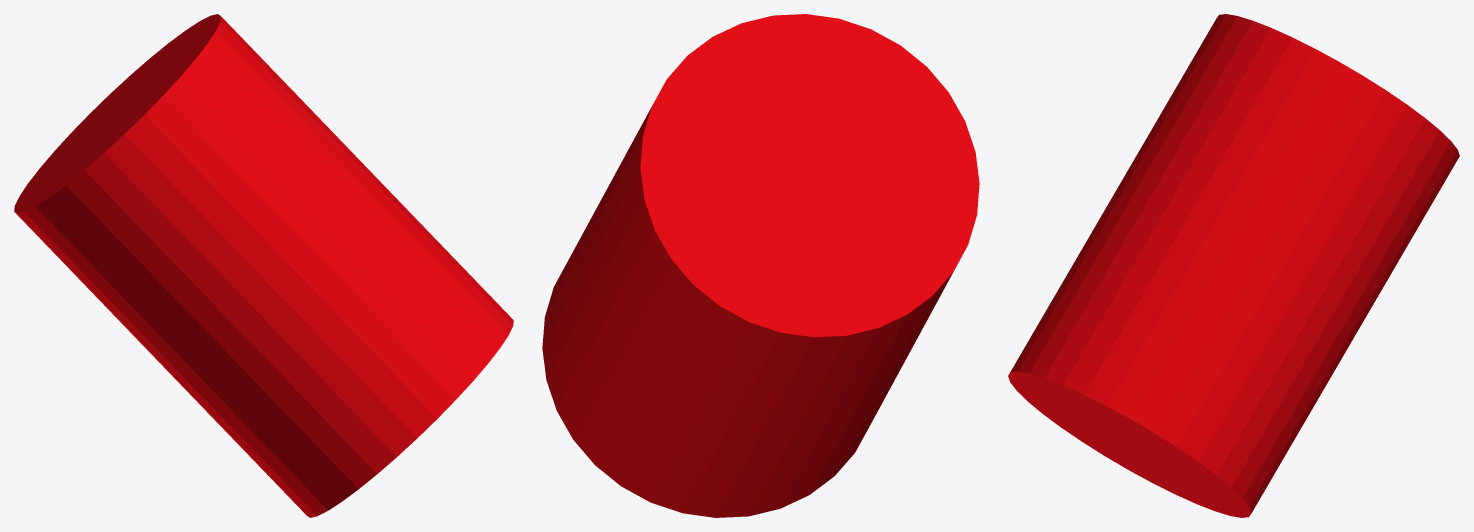
The model's file is Enemy.fbx.
3 views of the same model, side by side, from view 1: azimuth 30°, elevation 25°; view 2: azimuth 150°, elevation 25°; view 3: azimuth 270°, elevation 25° (orthographic). The views are drawn at different scales.
Parts seen in each view (by area): view 1: 円柱; view 2: 円柱; view 3: 円柱.
Boxes of the visible parts, x1,y1,x2,y2 form: 円柱: (14, 14, 513, 517); 円柱: (542, 14, 979, 517); 円柱: (1008, 14, 1459, 517).
Bounding box in the file's own units: 5.79 × 6.31 × 5.77.
